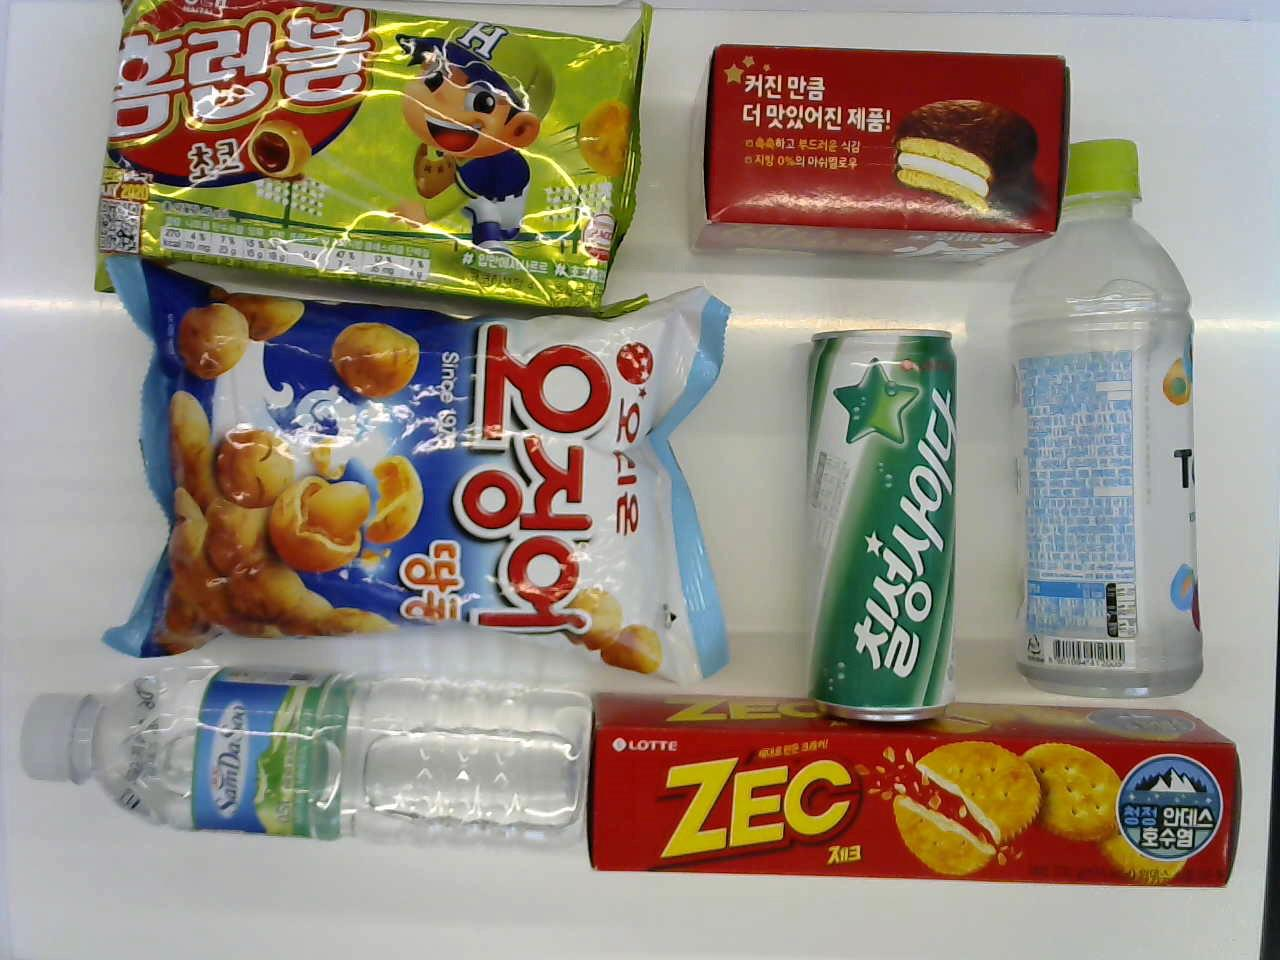chocopie: (690, 48, 1080, 265)
cidar: (794, 321, 959, 725)
homerunball: (76, 0, 641, 297)
samdasu: (26, 674, 593, 854)
squid_peanut: (108, 263, 731, 681)
toreta: (995, 144, 1203, 697)
zec: (597, 689, 1242, 897)
